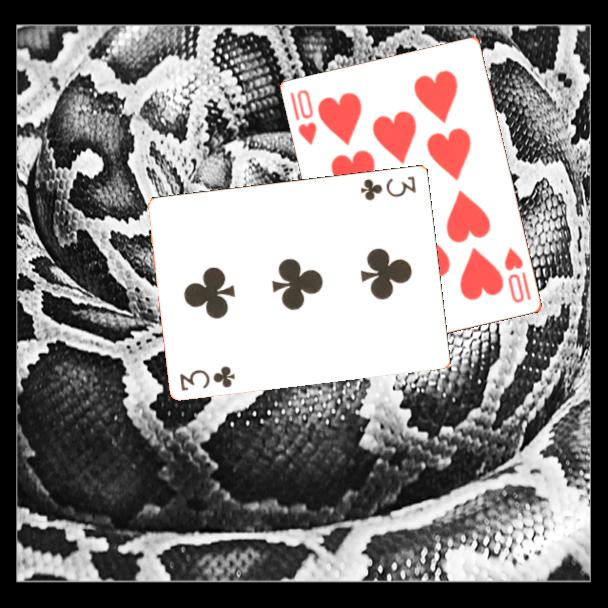c03: (357, 172, 419, 203), (177, 362, 238, 393)
h10: (501, 244, 534, 306), (287, 86, 320, 148)
